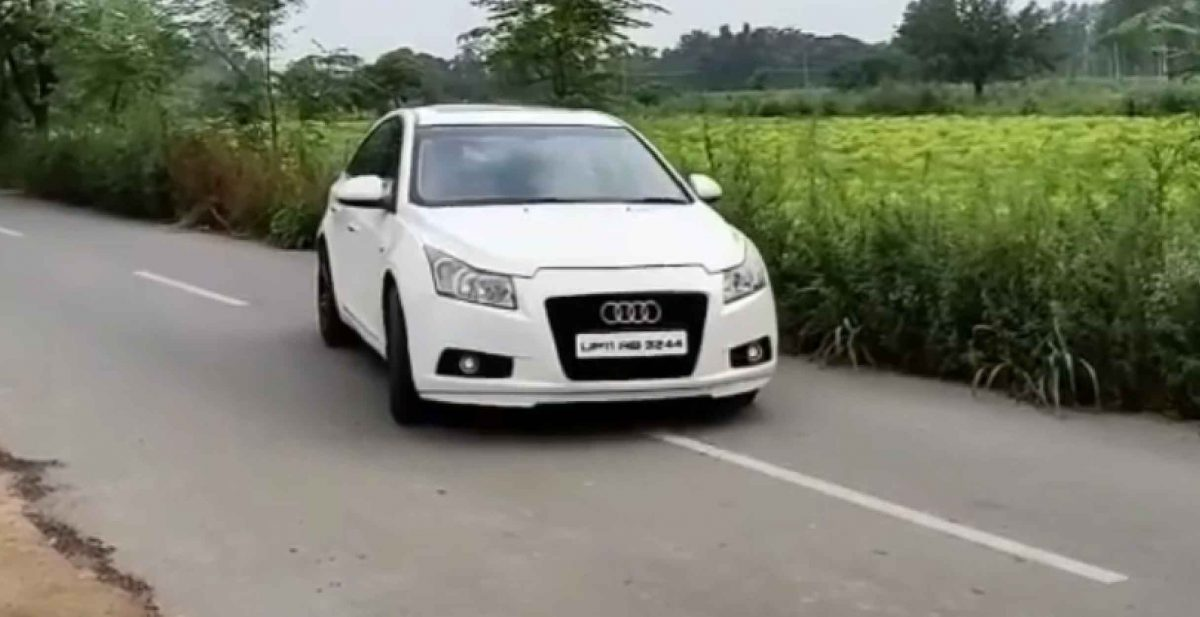car: (305, 92, 787, 439)
